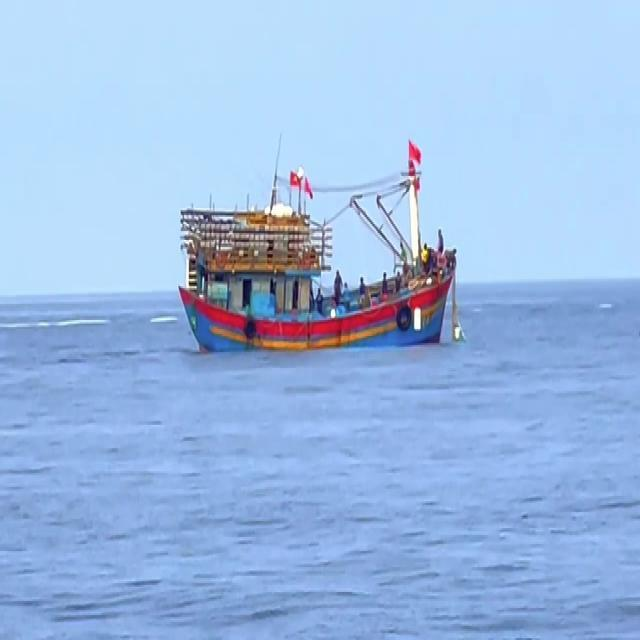Ship: (178, 160, 460, 352)
